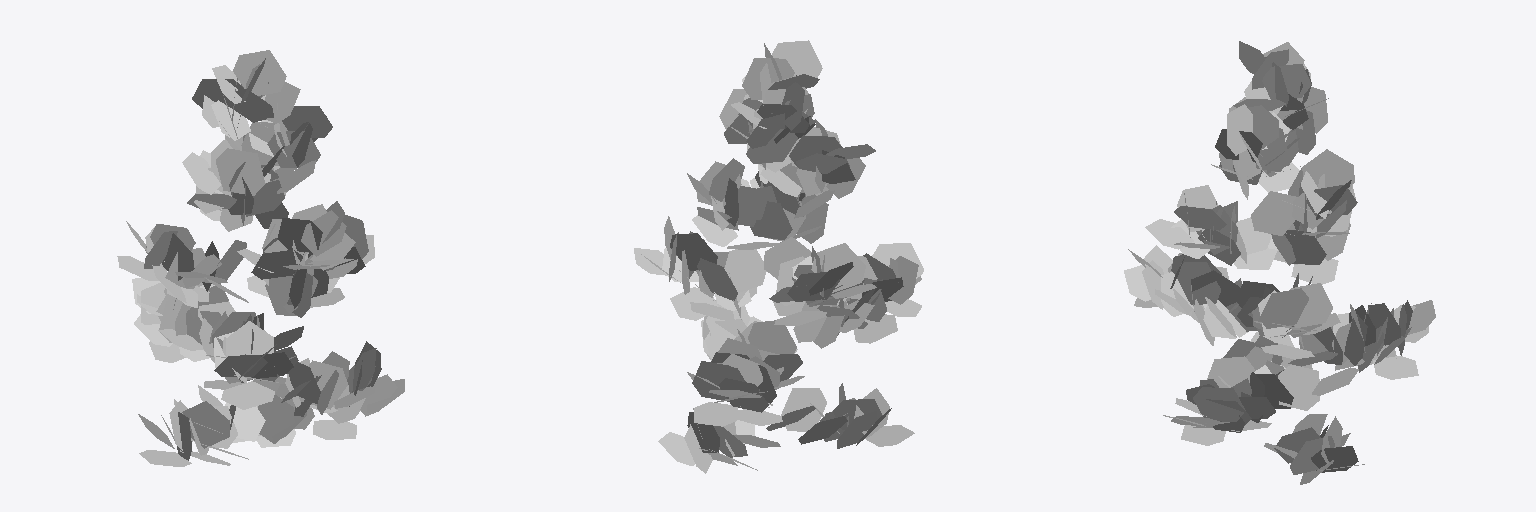
Rendered from TreeLeaves.obj.
3 views of the same model, side by side, from view 1: azimuth 30°, elevation 25°; view 2: azimuth 150°, elevation 25°; view 3: azimuth 270°, elevation 25° (orthographic).
Bounding box in the file's own units: 5.56 × 8.73 × 5.96.